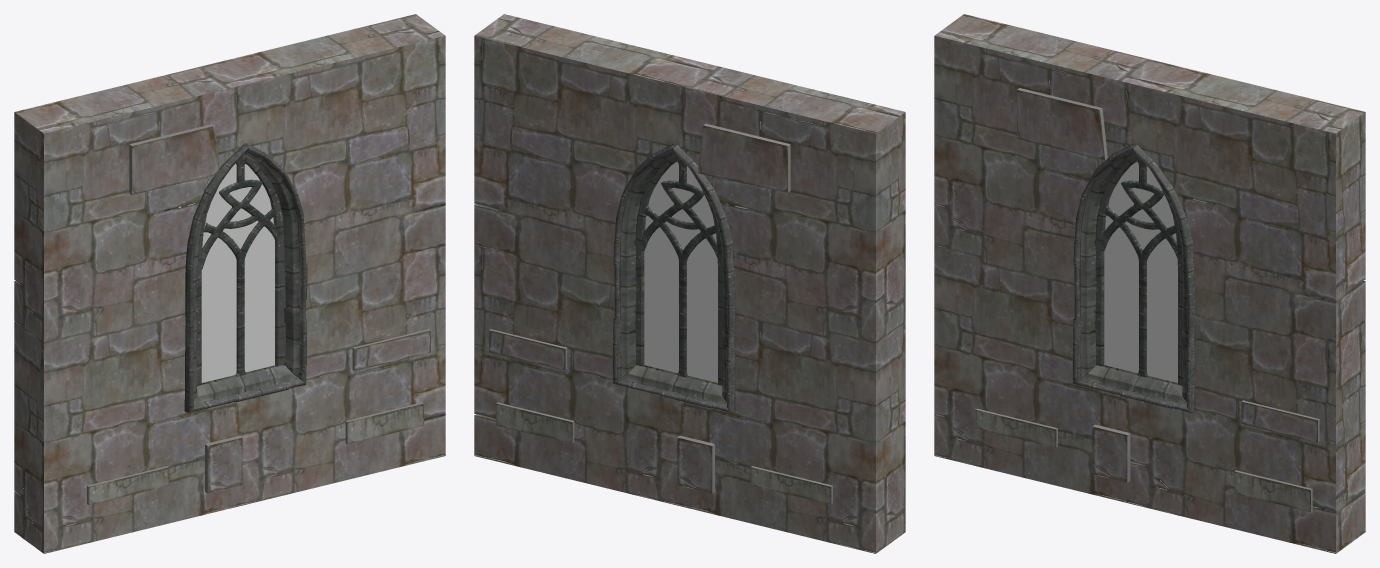
3 renders of one model, left to right at view 1: azimuth 30°, elevation 25°; view 2: azimuth 150°, elevation 25°; view 3: azimuth 330°, elevation 25°, orthographic.
Visible parts, largest first — view 1: SM_BB_T3_Extended_Wall_Windowframe_Large_11_LOD0; view 2: SM_BB_T3_Extended_Wall_Windowframe_Large_11_LOD0; view 3: SM_BB_T3_Extended_Wall_Windowframe_Large_11_LOD0.
Part boxes in pixels (box(x1,y1,x2,y2)): SM_BB_T3_Extended_Wall_Windowframe_Large_11_LOD0: box(14, 14, 445, 553); SM_BB_T3_Extended_Wall_Windowframe_Large_11_LOD0: box(474, 14, 905, 553); SM_BB_T3_Extended_Wall_Windowframe_Large_11_LOD0: box(934, 14, 1365, 553).
Bounding box in the file's own units: 3 × 3 × 0.4969.
3 materials, 2 textured.
